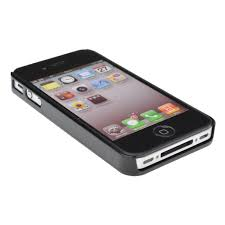iphone: (6, 48, 219, 180)
iphone4: (6, 48, 219, 180)
